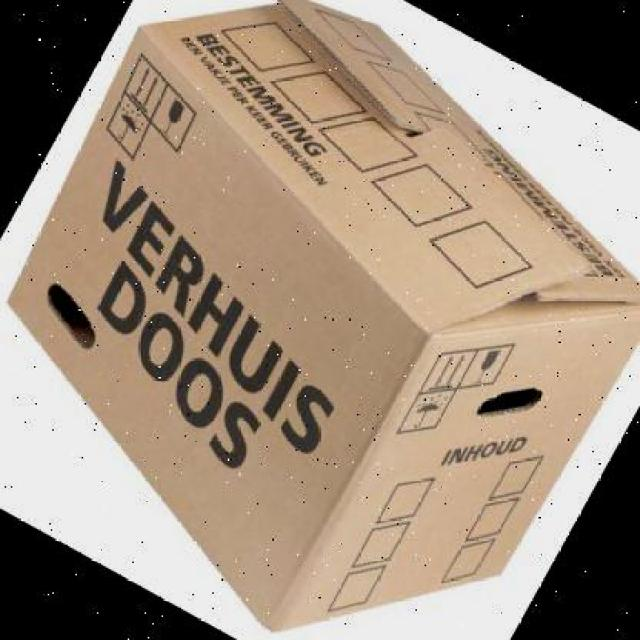box: (4, 1, 640, 634)
normal_hole: (45, 281, 96, 352), (476, 386, 544, 418)
